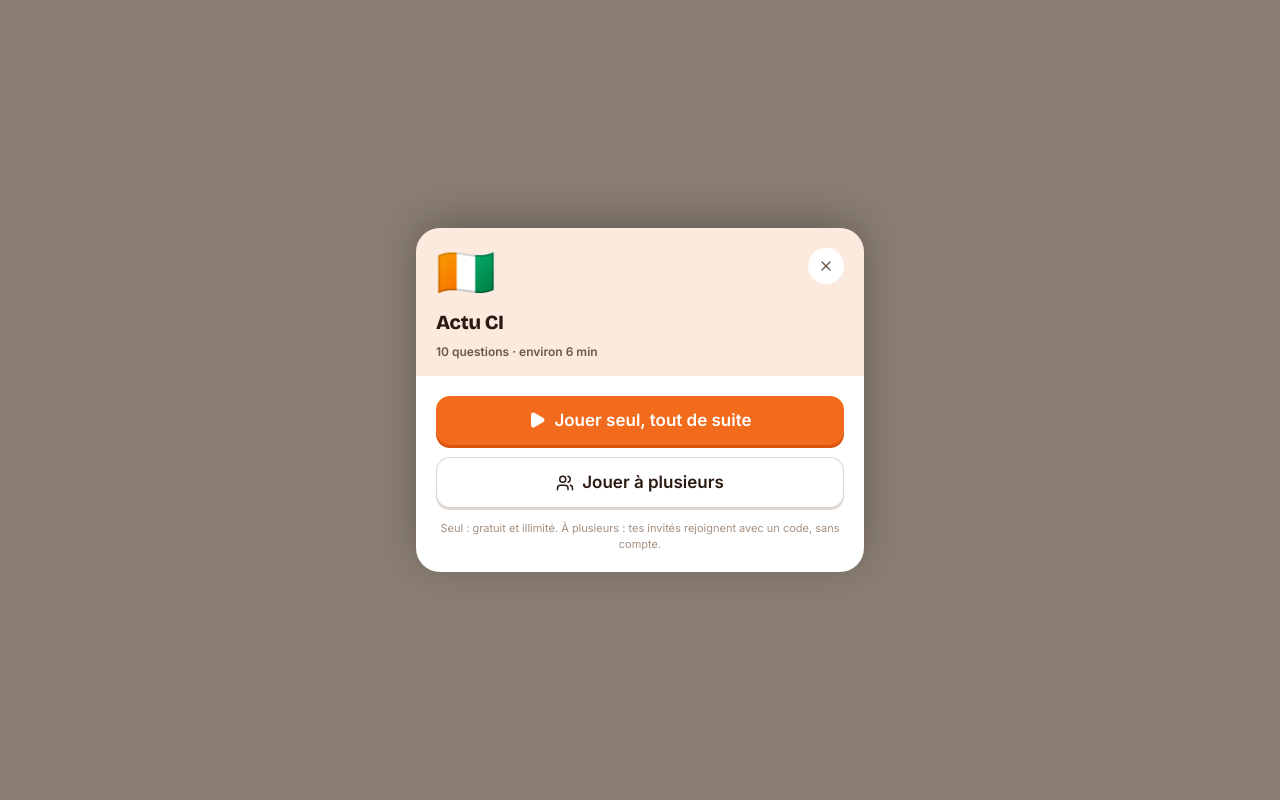
Test: feuille de lancement › à plusieurs, en 3 équipes, sur grand écran : ouvre la salle d'attente
Click the button "Jouer à plusieurs".
click(640, 483)  # box [436,457,844,508]
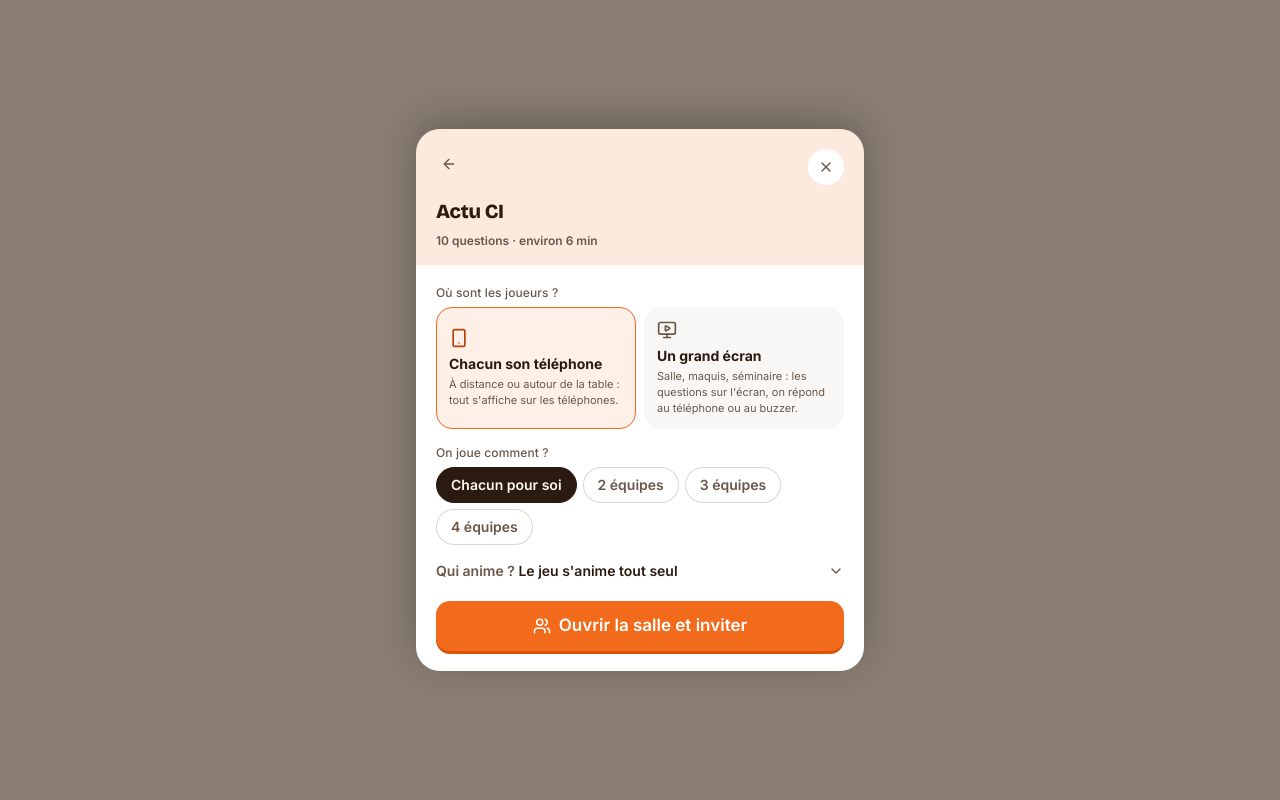
Click the button "Un grand écran".
click(744, 368)  # box [644,307,844,429]
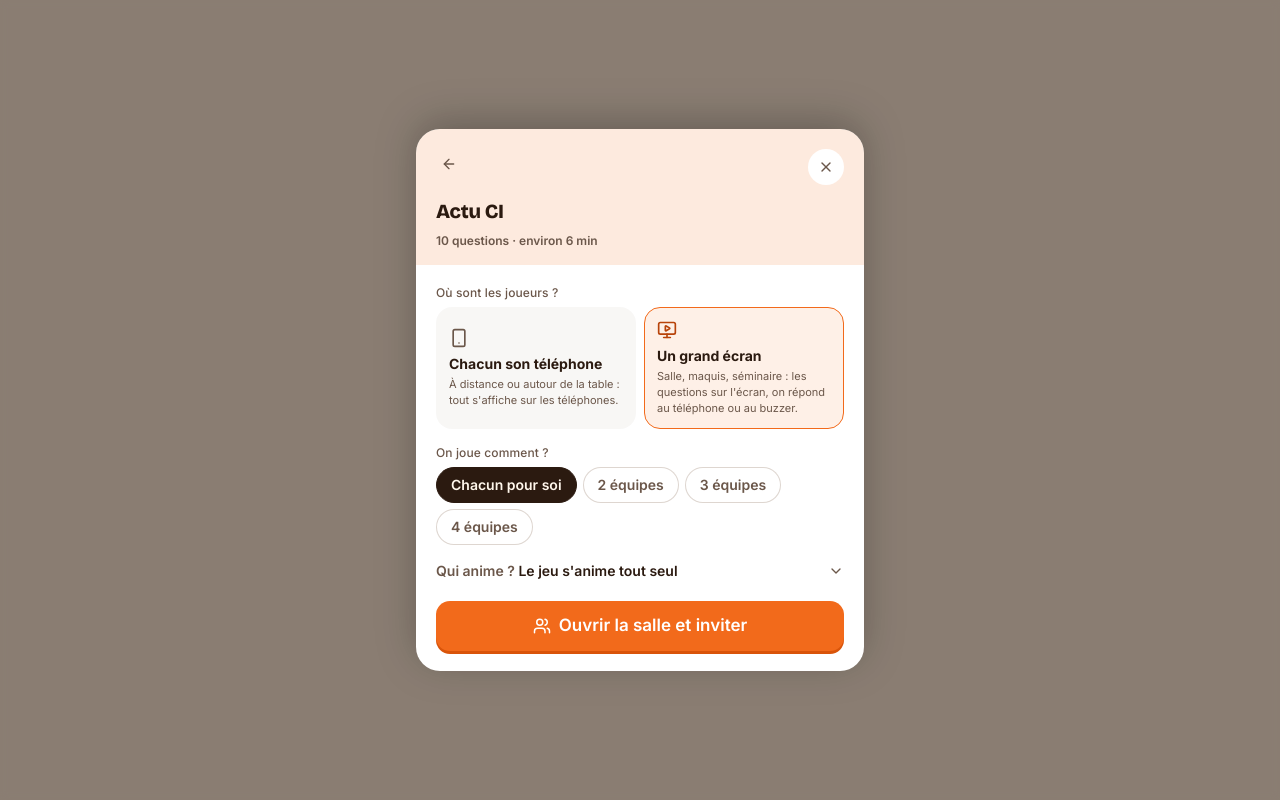
Click the button "3 équipes".
click(733, 485)  # box [685,467,781,503]
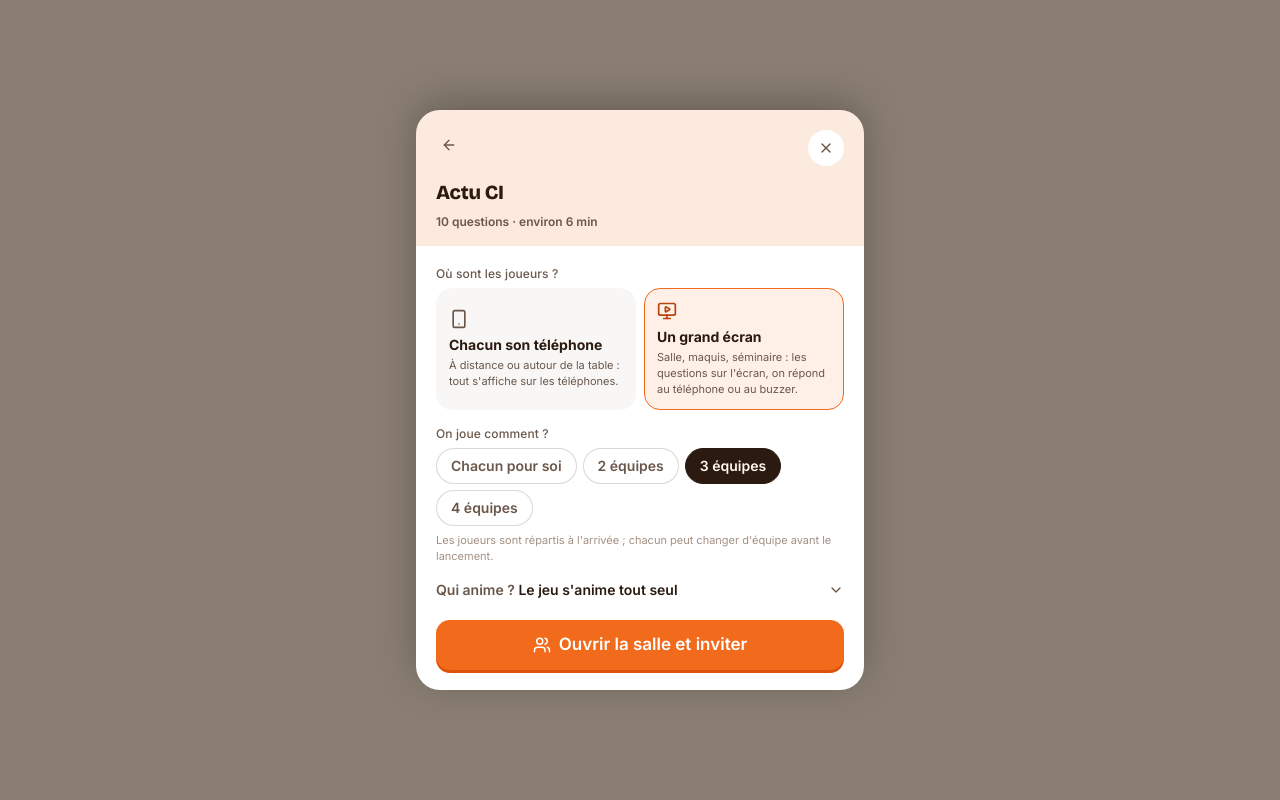
Result: the button "3 équipes" is pressed at [685,448,781,484]
Click the button "Ouvrir la salle et inviter".
click(640, 645)  # box [436,620,844,670]
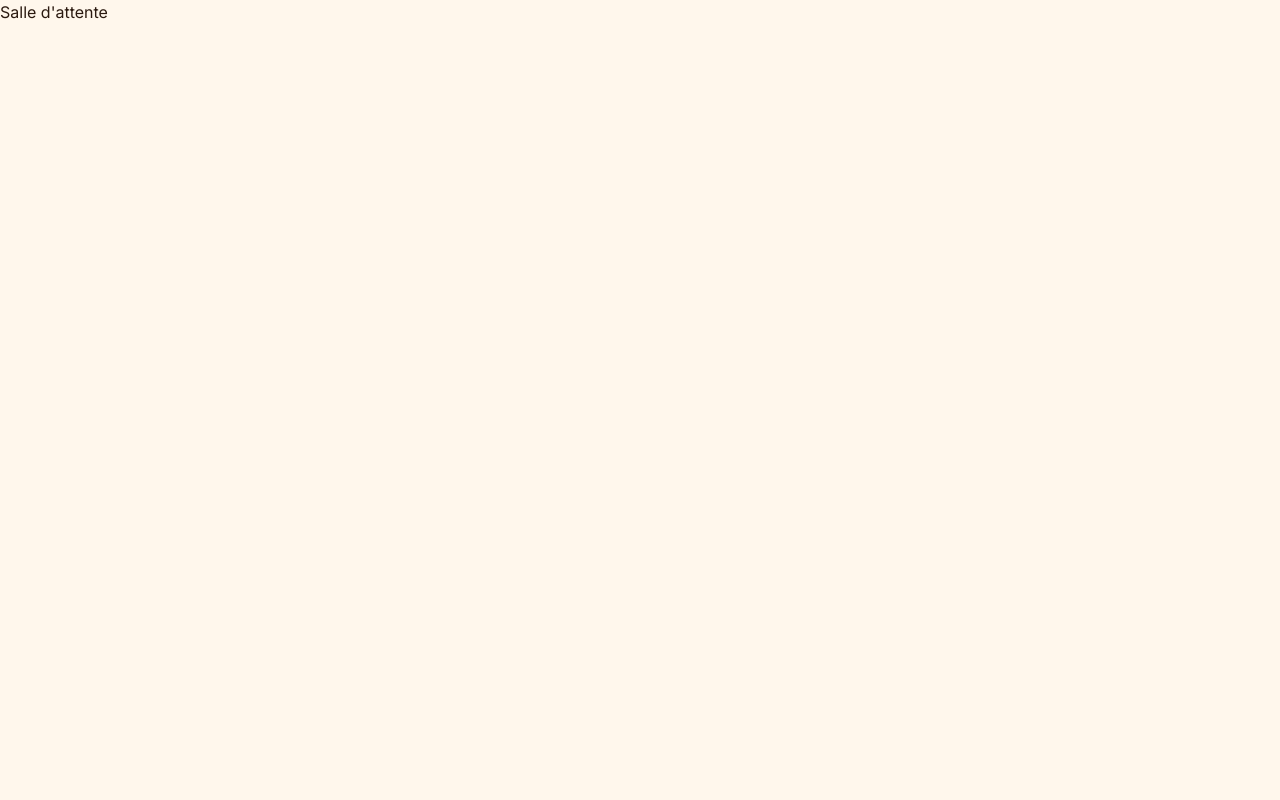
Result: the text "Salle d'attente" is shown at [0,2,108,22]
